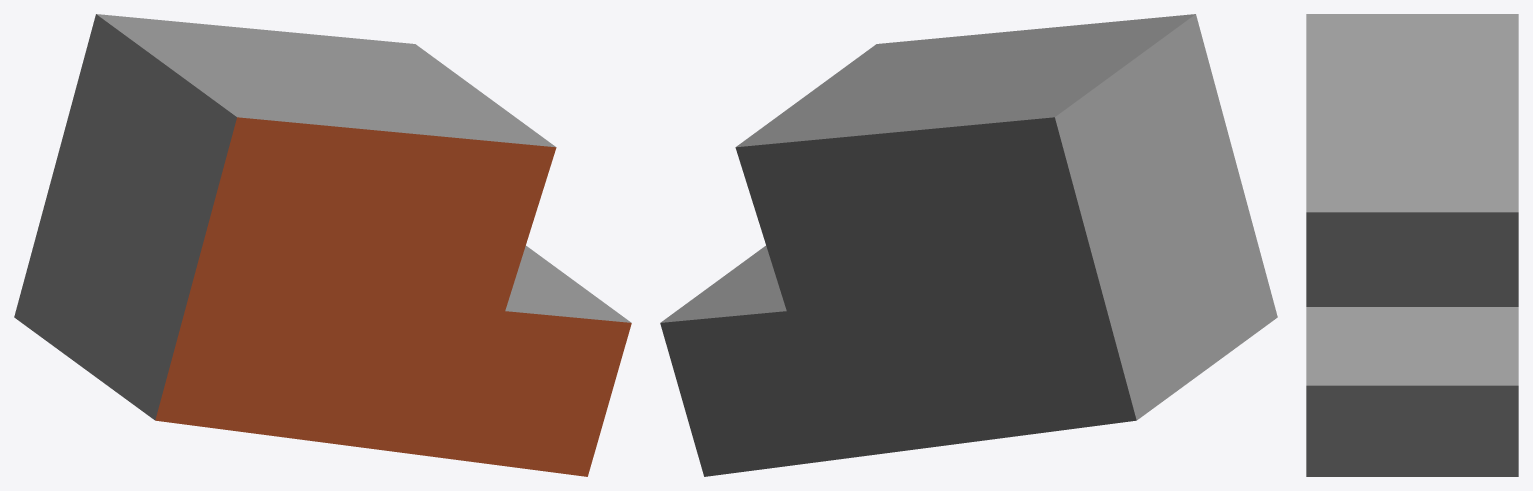
Rendered from construction_6283_assumed_A_Casa_h6m.obj.
3 views of the same model, side by side, from view 1: azimuth 30°, elevation 25°; view 2: azimuth 150°, elevation 25°; view 3: azimuth 270°, elevation 25° (orthographic). The views are drawn at different scales.
Parts seen in each view (by area): view 1: construction_6283_assumed_A_Casa; view 2: construction_6283_assumed_A_Casa; view 3: construction_6283_assumed_A_Casa.
Part boxes in pixels (<box>): construction_6283_assumed_A_Casa: <box>14,14,631,476</box>; construction_6283_assumed_A_Casa: <box>660,14,1277,476</box>; construction_6283_assumed_A_Casa: <box>1306,14,1518,476</box>.
Size of the model in its own units: 11.7 by 10.44 by 6.
